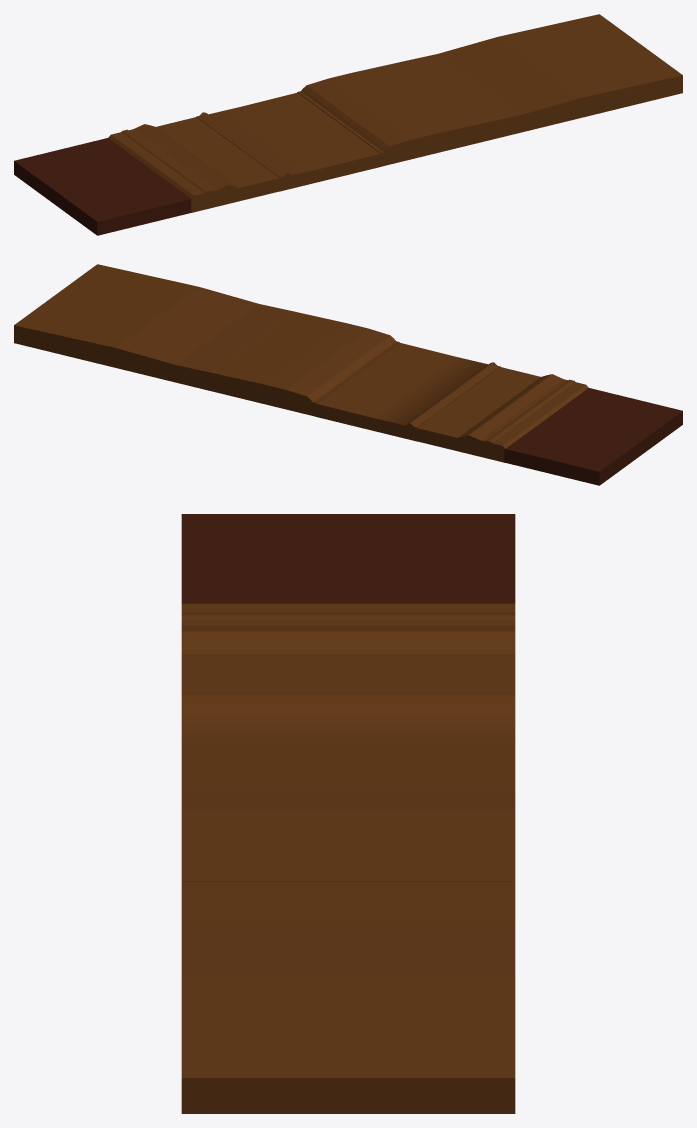
Rendered from ground3.FBX.
The picture shows the model from 3 angles, top to bottom: view 1: azimuth 30°, elevation 25°; view 2: azimuth 150°, elevation 25°; view 3: azimuth 270°, elevation 25°; orthographic projection. The views are drawn at different scales.
Visible parts, largest first — view 1: Box002, Object027, Object029, Object045, Object028, Object031, Object044, Object041, Object042, Object034, Object037, Object036 (+8 smaller); view 2: Box002, Object027, Object029, Object045, Object028, Object031, Object044, Object041, Object042, Object034, Object037, Object036 (+8 smaller); view 3: Object027, Object029, Box002, Object045, Object028, Object031, Object044, Object042, Object041, Object032, Object033, Object037 (+4 smaller).
Part boxes in pixels (x1,y1,x2,y2): Box002: (14,138,191,235); Object027: (498,14,682,117); Object029: (196,92,380,191); Object045: (438,37,581,132); Object028: (350,62,482,153); Object031: (156,117,283,201); Object044: (403,54,520,140); Object041: (307,78,411,164); Object042: (328,73,433,158); Object034: (133,124,227,206); Object037: (111,132,205,212); Object036: (122,129,211,209); Box002: (504,388,682,485); Object027: (14,264,198,367); Object029: (315,342,500,441); Object045: (115,287,258,382); Object028: (214,312,346,403); Object031: (417,367,540,451); Object044: (176,304,293,390); Object041: (285,328,389,414); Object042: (263,323,368,408); Object034: (469,374,563,456); Object037: (491,382,585,462); Object036: (485,379,574,459); Object027: (181,974,515,1113); Object029: (181,692,515,791); Box002: (181,514,515,603); Object045: (181,920,515,974); Object028: (181,831,515,881); Object031: (181,654,515,692); Object044: (181,885,515,920); Object042: (181,809,515,830); Object041: (181,791,515,809); Object032: (181,642,515,653); Object033: (181,631,515,642); Object037: (181,603,515,612).
Size of the model in its own units: 8392 by 276 by 2072.
